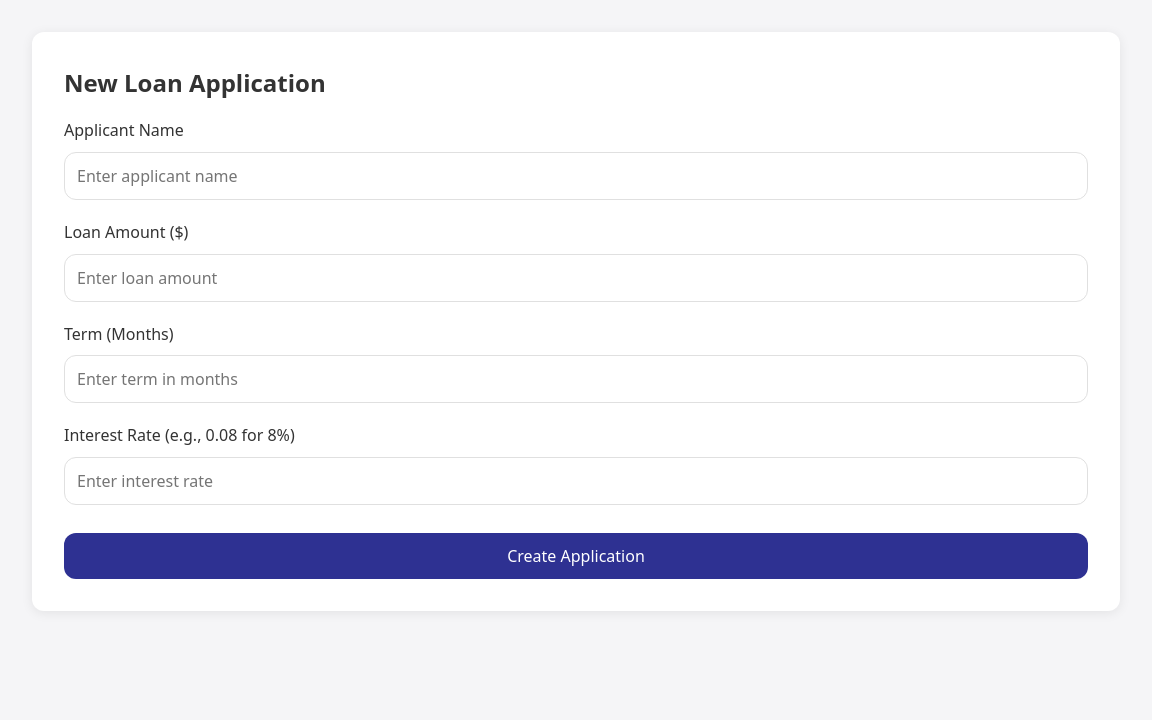
Test: LoanForm › displays error when term months is invalid
Type "John Doe" into the field with id "applicantName". click: (576, 176)
box: [64,152,1088,200]
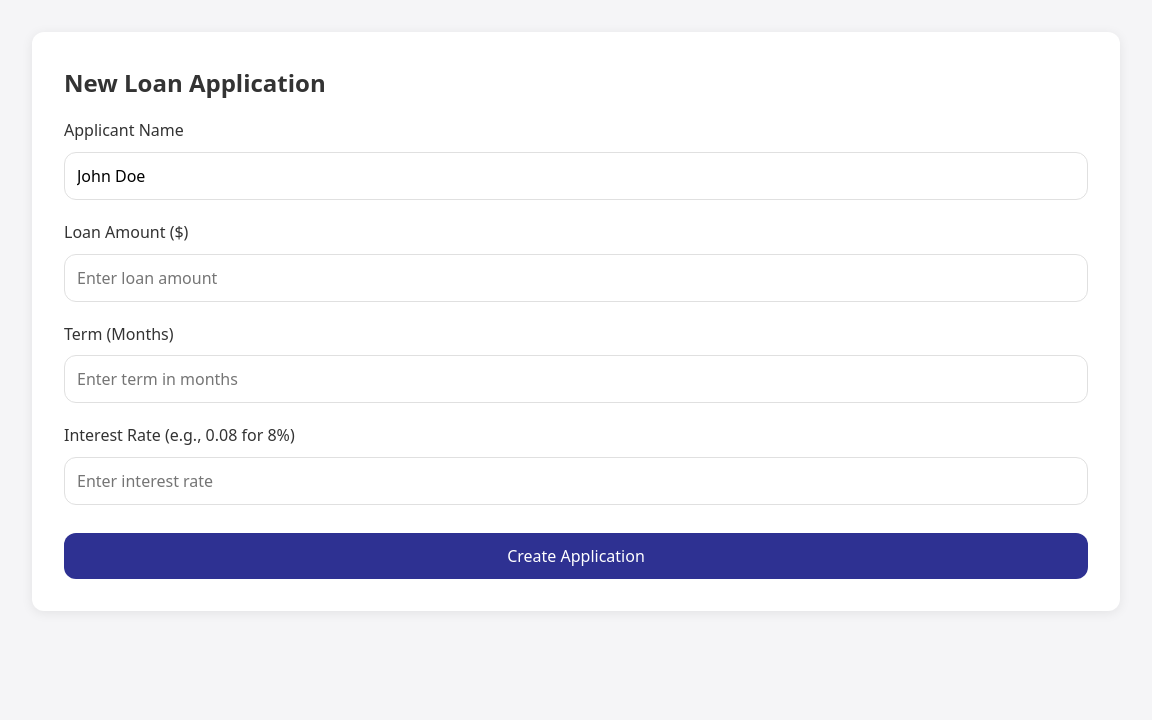
Type "10000" into the number field with id "amount". click: (576, 278)
box: [64,254,1088,302]
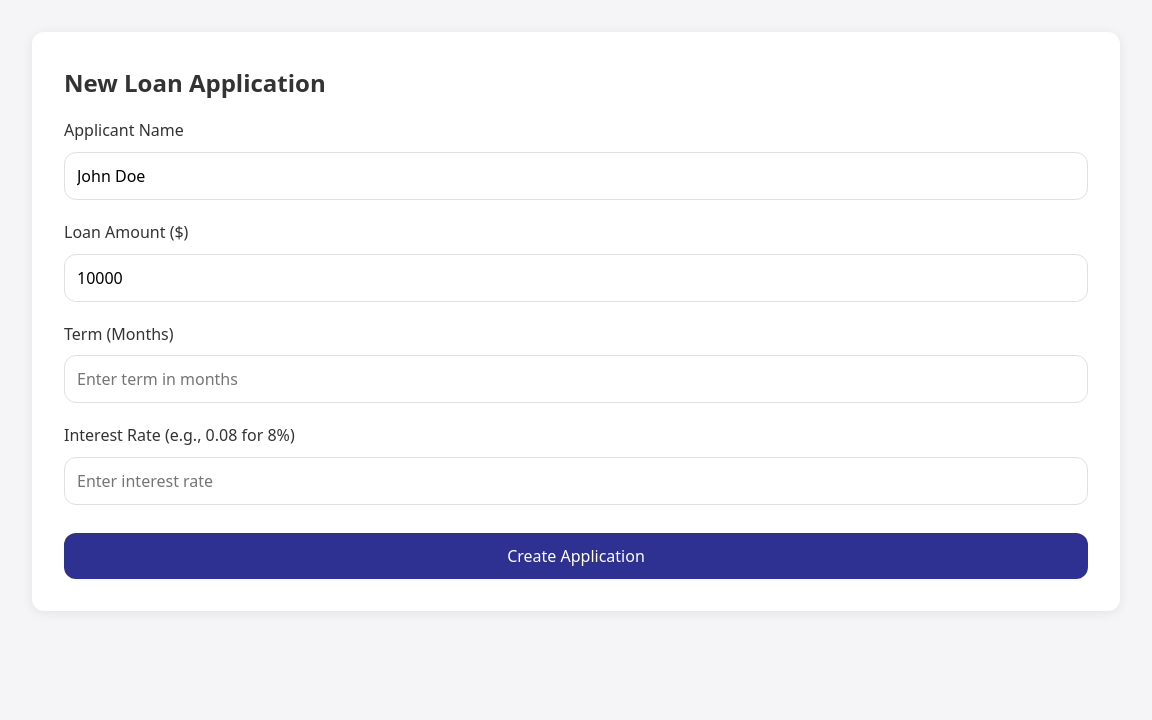
Type "0" into the number field with id "termMonths". click: (576, 379)
box: [64,355,1088,403]
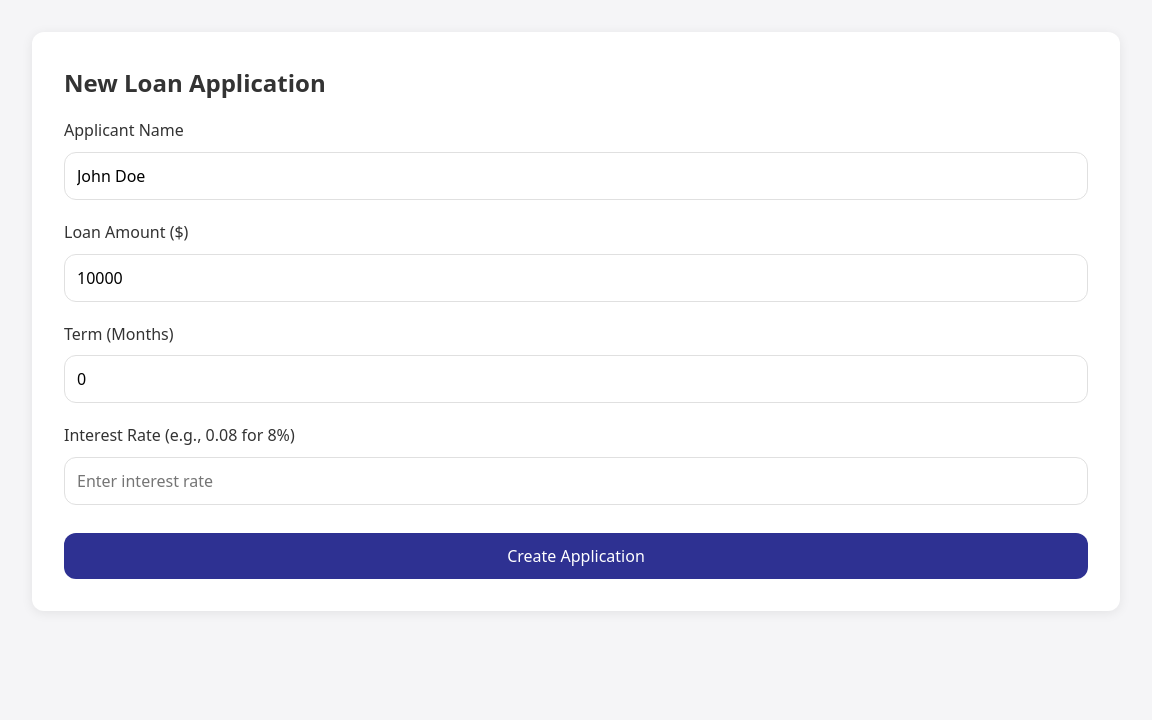
Type "0.05" into the number field with id "interestRate". click: (576, 481)
box: [64,457,1088,505]
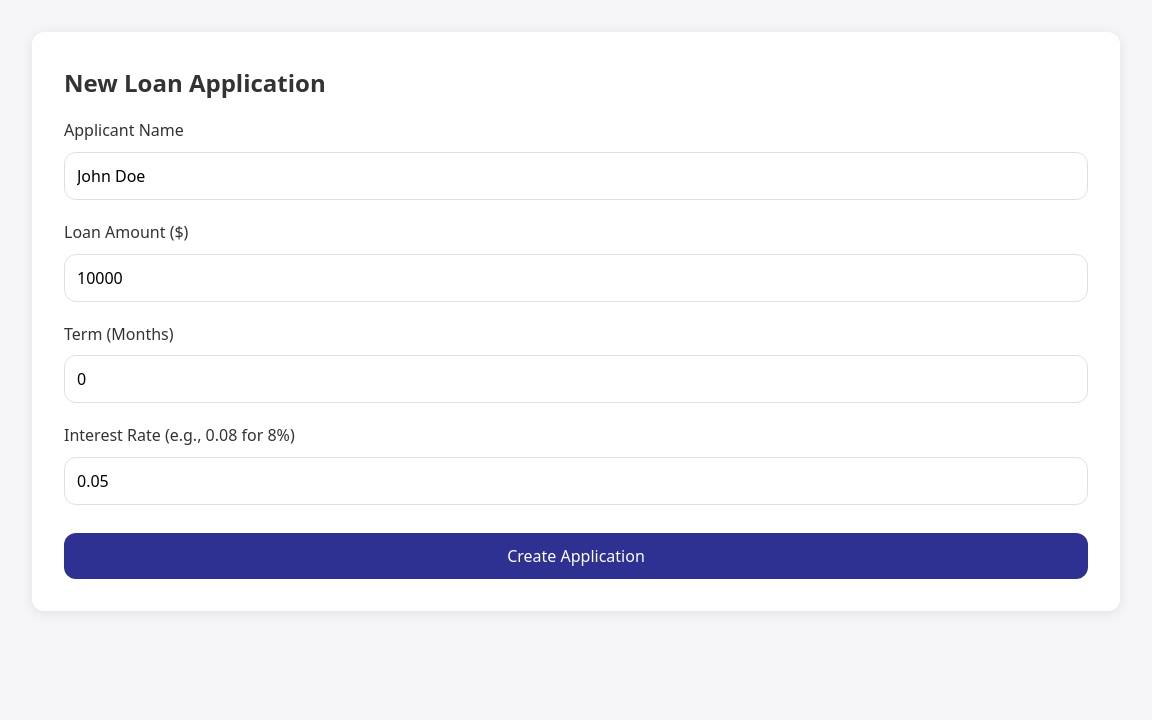
Submit the form, box [64,118,1088,579]
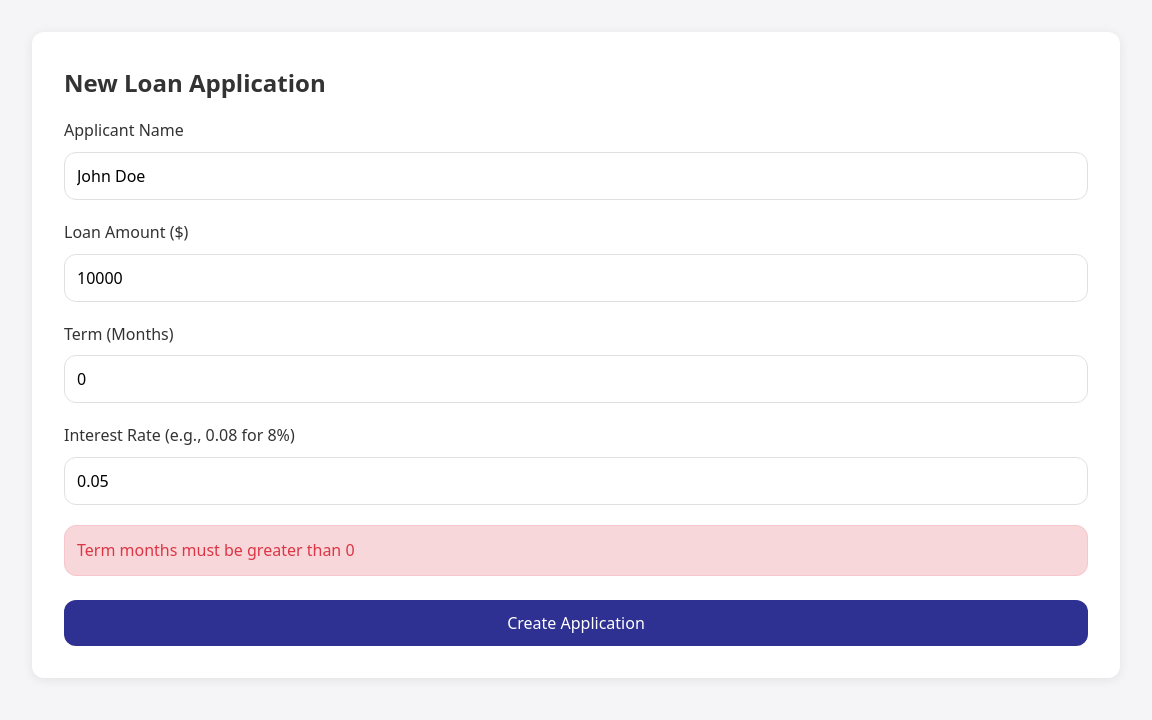
Result: the text with class "error-message" reads "Term months must be greater than 0" at [77,539,355,561]
